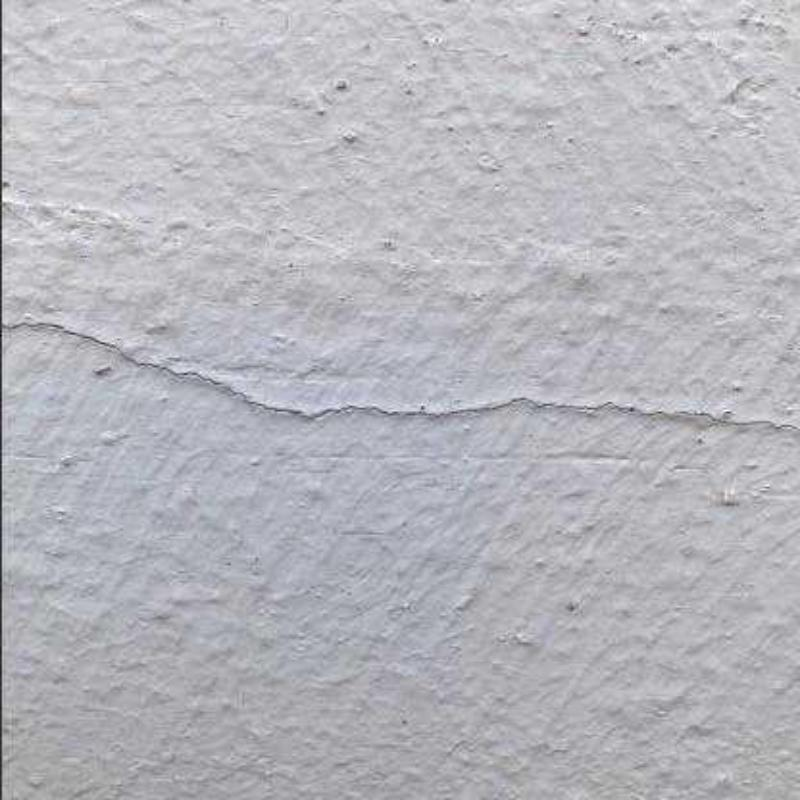pothole: (0, 324, 800, 435)
